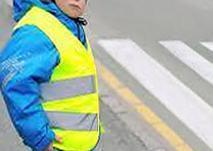Vest: (11, 11, 100, 150)
